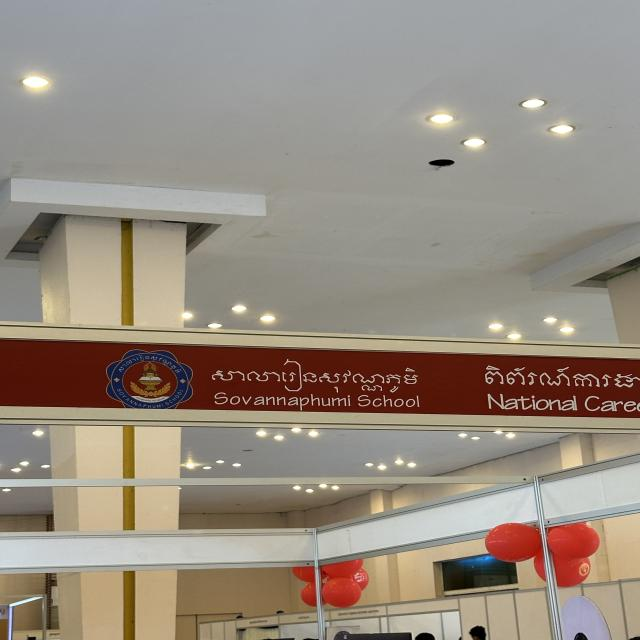Yolov11kh: (198, 360, 423, 393)
